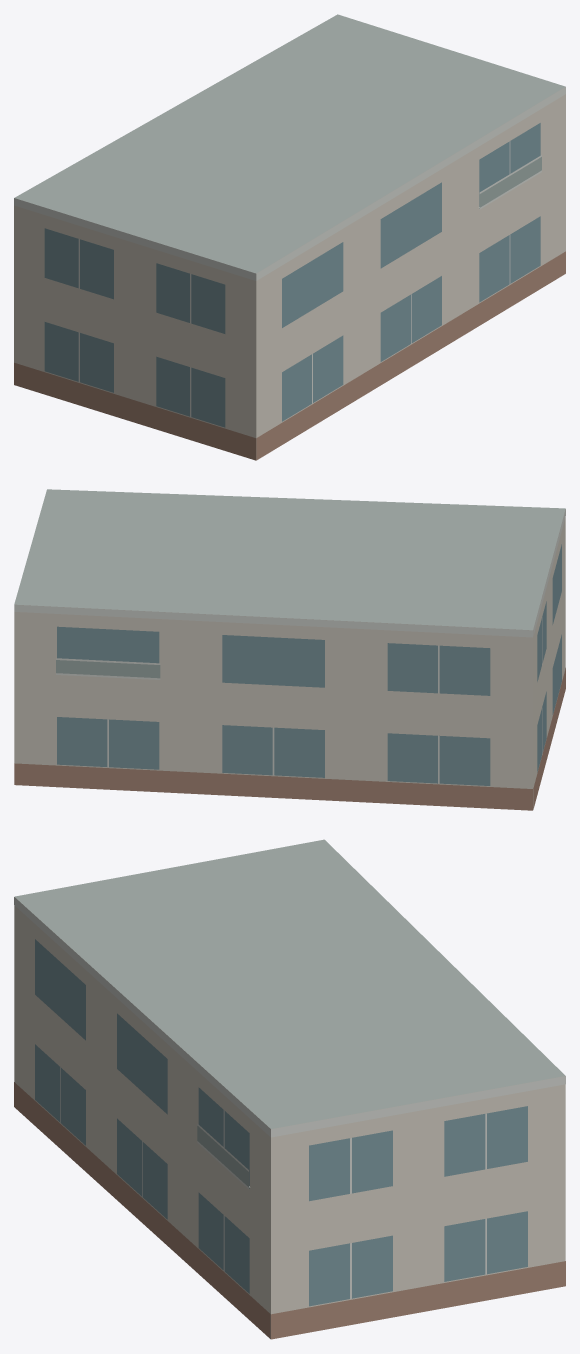
The model's file is survey-upis-32656580.glb.
The picture shows the model from 3 angles, top to bottom: view 1: azimuth 30°, elevation 25°; view 2: azimuth 150°, elevation 25°; view 3: azimuth 270°, elevation 25°; orthographic projection. The views are drawn at different scales.
Visible parts, largest first — view 1: survey-upis-32656580.tmp; view 2: survey-upis-32656580.tmp; view 3: survey-upis-32656580.tmp.
Part boxes in pixels (x1,y1,x2,y2): survey-upis-32656580.tmp: [14, 14, 565, 460]; survey-upis-32656580.tmp: [14, 489, 565, 810]; survey-upis-32656580.tmp: [14, 839, 565, 1339].
Bounding box in the file's own units: 18.03 × 6.1 × 14.51.
